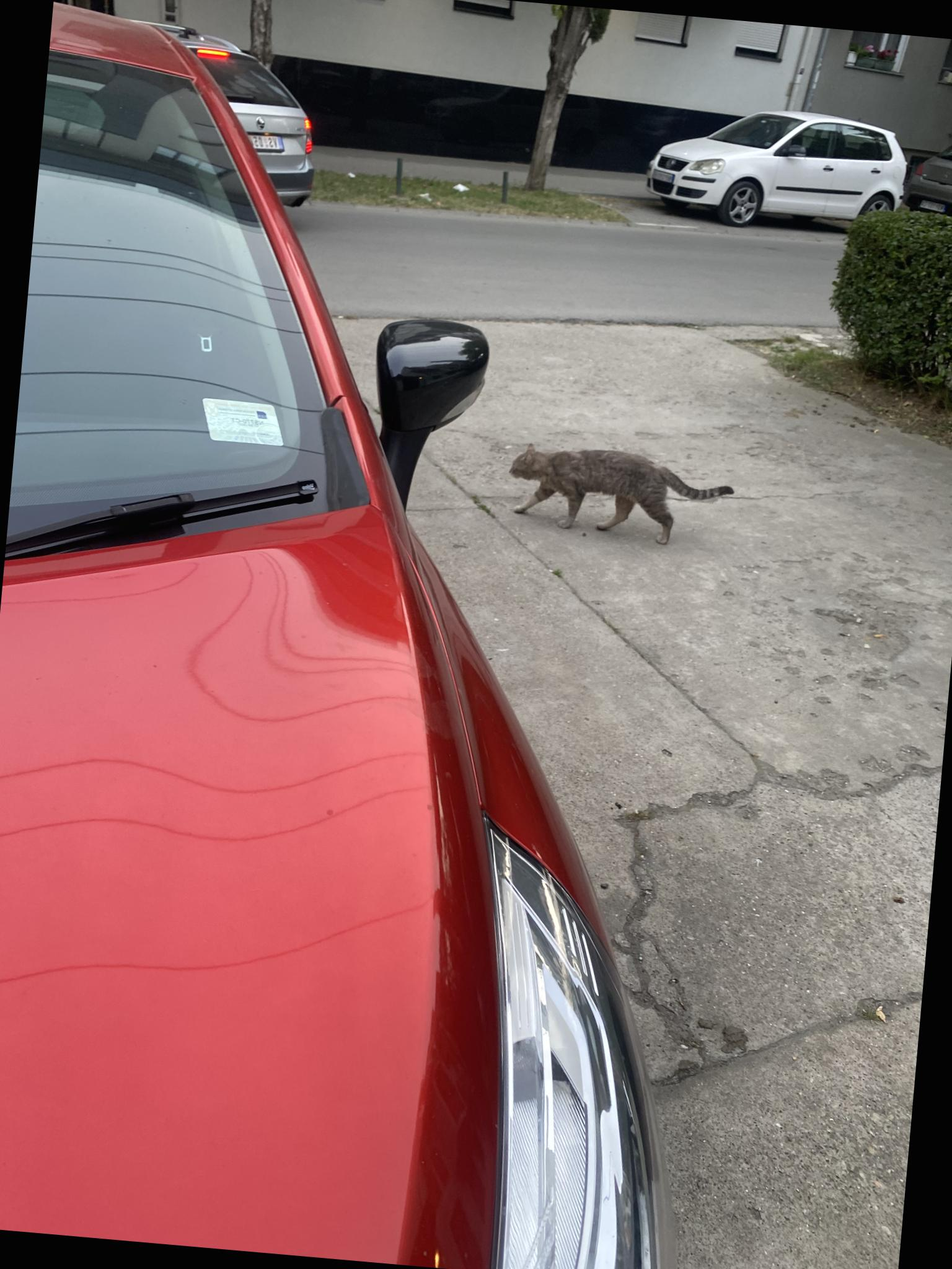macka: (504, 441, 737, 550)
